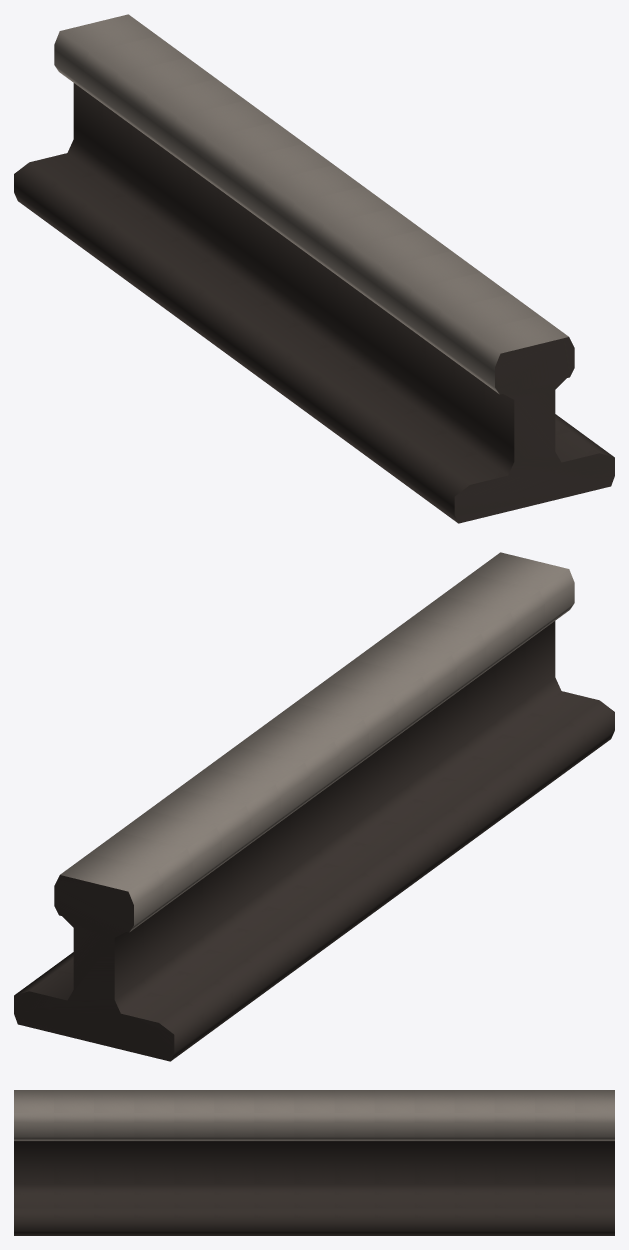
File: Environment_Rail_RailSection_1m_001.glb
3 renders of one model, top to bottom at view 1: azimuth 30°, elevation 25°; view 2: azimuth 150°, elevation 25°; view 3: azimuth 270°, elevation 25°, orthographic. The views are drawn at different scales.
Parts seen in each view (by area): view 1: RailSection_1m_Static; view 2: RailSection_1m_Static; view 3: RailSection_1m_Static.
Part boxes in pixels (<box>): RailSection_1m_Static: <box>14,14,614,523</box>; RailSection_1m_Static: <box>14,552,614,1061</box>; RailSection_1m_Static: <box>14,1090,614,1235</box>.
Size of the model in its own units: 0.21 by 0.2 by 1.
Materials: 1 (1 with a texture image).
